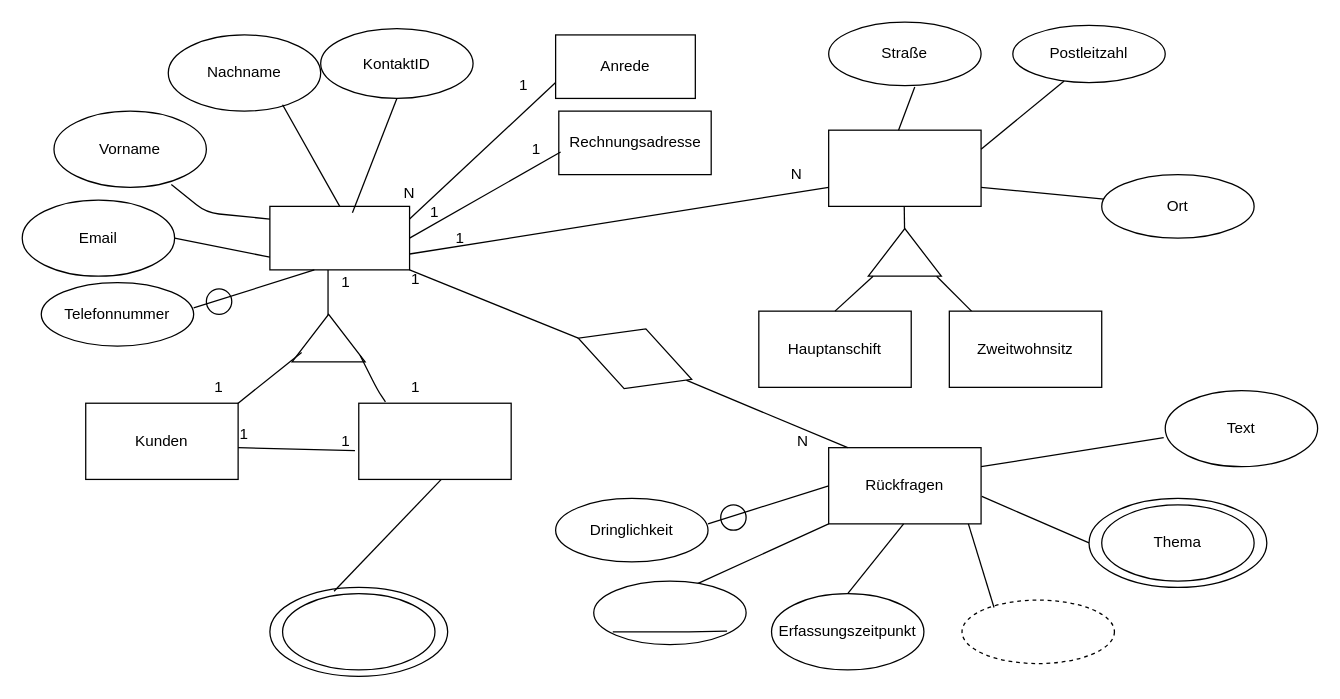
The diagram is 1340 pixels wide and 699 high, and some of its shapes have lost their labels. Each missing label, with the centre of its shape:
Alter: [1037,631]
Hausanschriften: [904,167]
Kontakt: [339,237]
Lieferungszeitfenster: [358,631]
Rückfragenummer: [669,612]
schickt: [634,358]
Zulieferer: [434,440]
